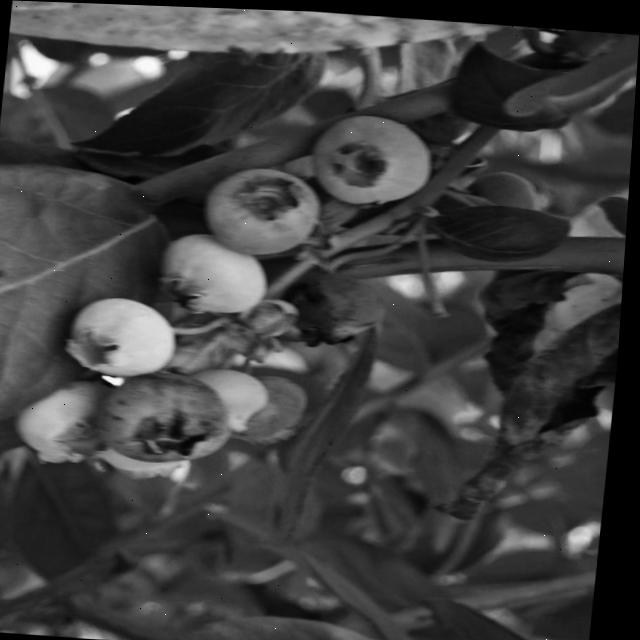RipeBlueBerry: (94, 368, 240, 467), (289, 266, 392, 346)
Semi-RipeBlueBerry: (200, 159, 326, 256)
UnripeBlueBerry: (311, 107, 438, 208), (68, 291, 184, 377), (159, 228, 274, 313)
